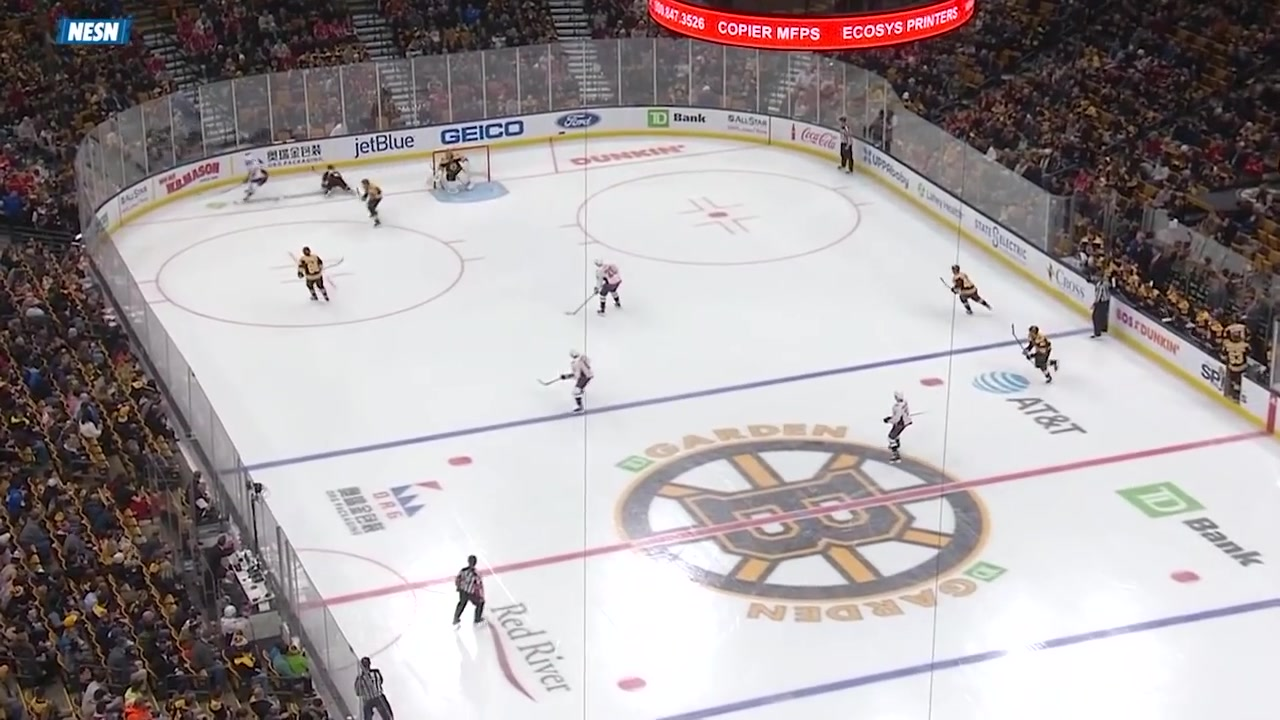geico: (439, 114, 524, 151)
